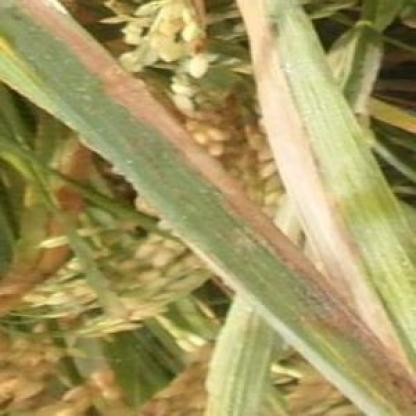Blight: (1, 1, 416, 416), (234, 1, 416, 380)
